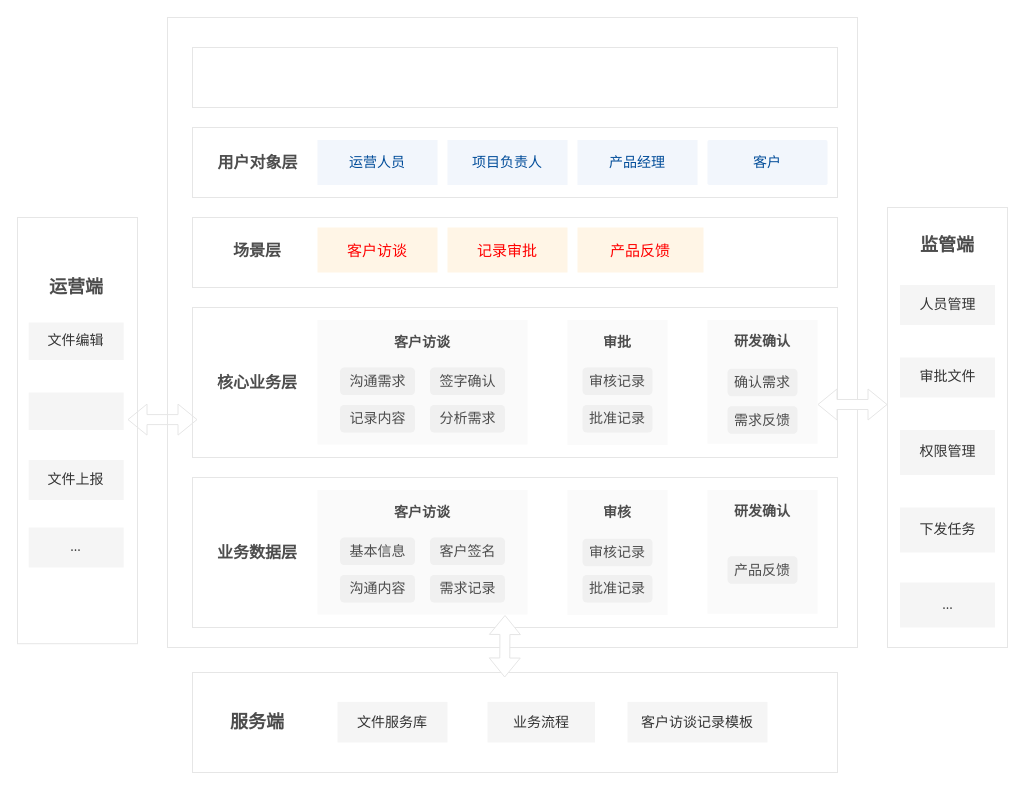
Some shapes in this 1025 by 790 pixel diagram are drawn without their labels. Here are the shapes that lost their labels. From the top down, the centre of each, then its label:
At [515,77]: "客户访谈记录业务架构".
At [75,411]: "电子签名".
